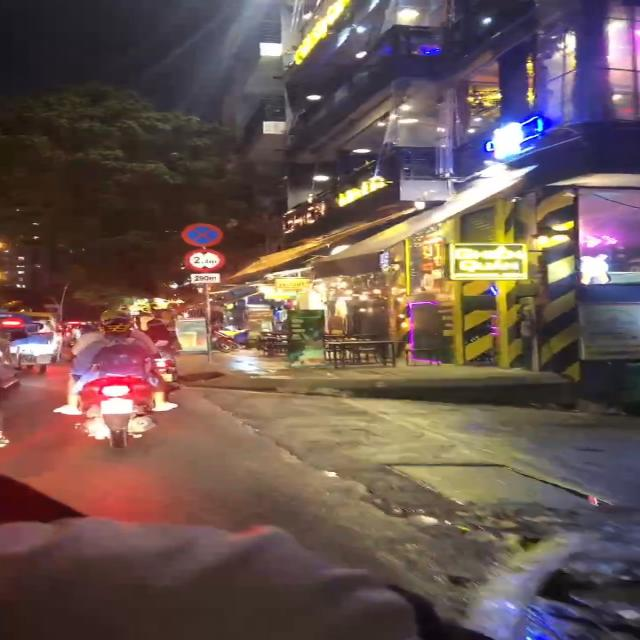Bien bao cam dung xe va do xe: (178, 220, 236, 247)
Bien bao han che chieu cao: (181, 248, 228, 273)
